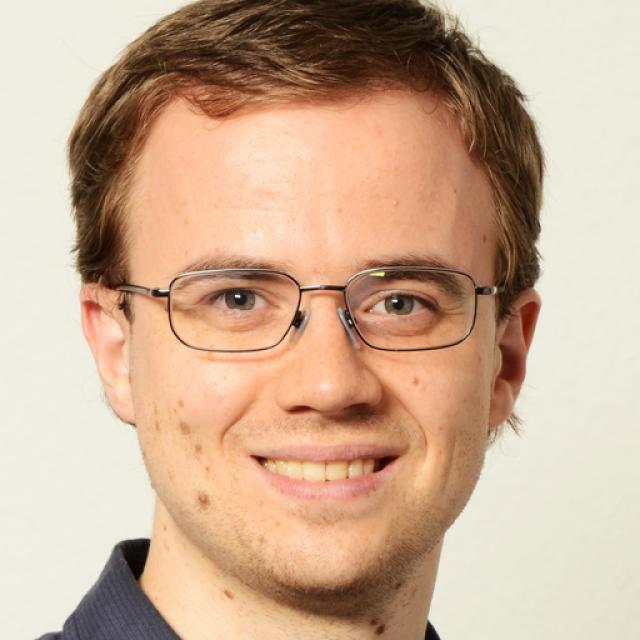Acne: (191, 486, 210, 514), (188, 438, 209, 456), (403, 373, 421, 390)
